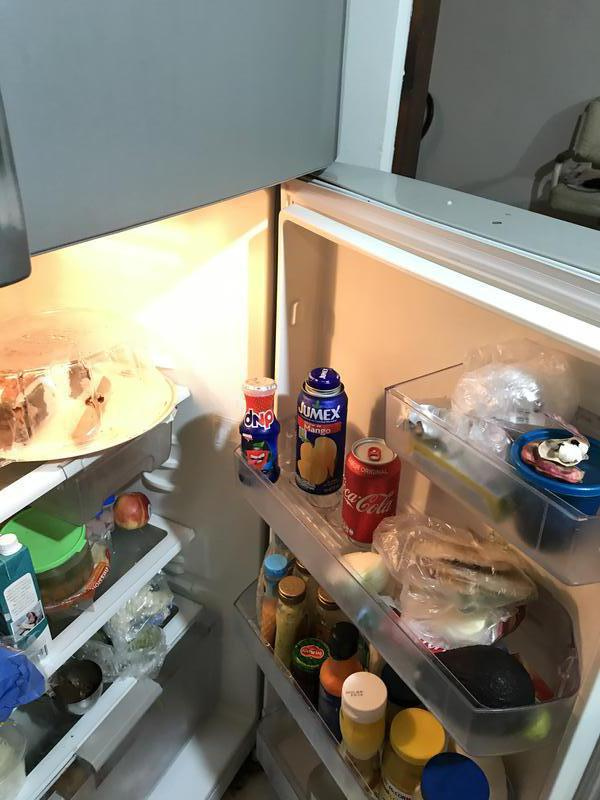coca_cola: (345, 438, 400, 543)
danup: (239, 377, 280, 488)
jugo_jumex: (294, 368, 349, 497)
